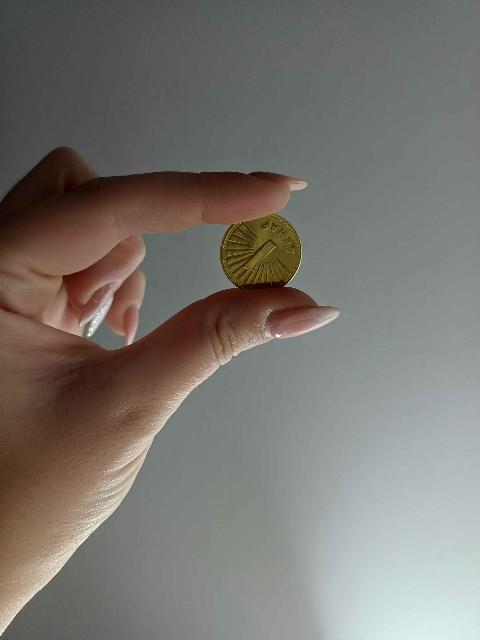coin: (221, 215, 301, 288)
